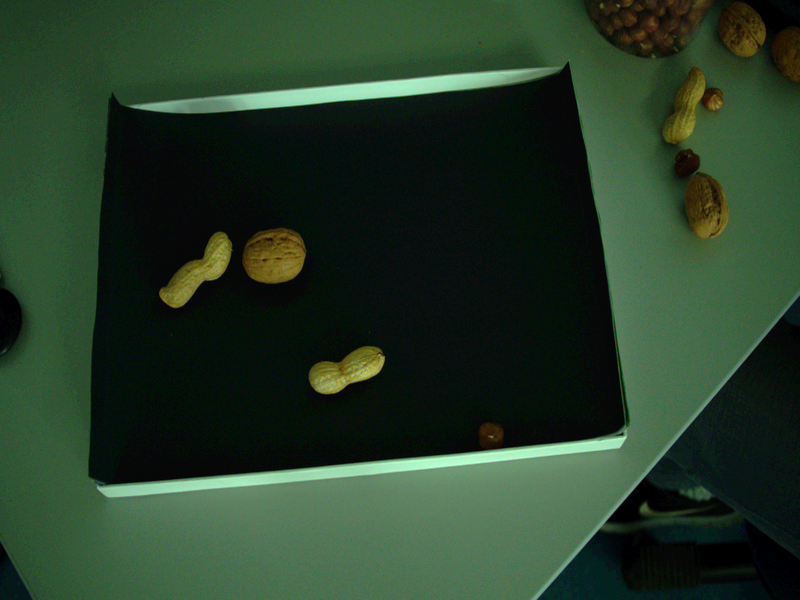walnut: (239, 222, 310, 288)
